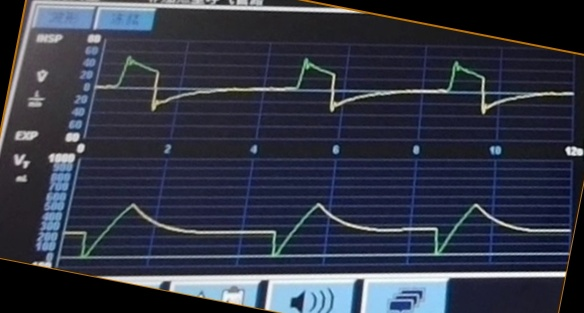Flow: (103, 51, 549, 140)
Leakage Volume: (73, 190, 552, 267)
